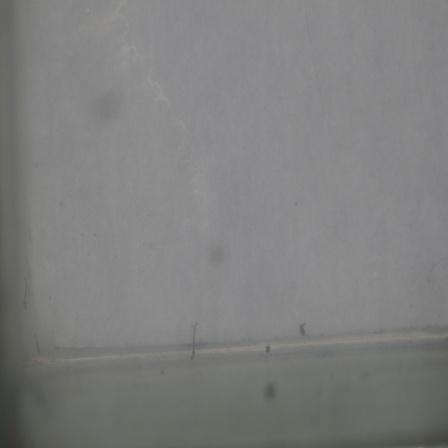Jentik-Nyamuk: (183, 322, 203, 361), (297, 318, 308, 342)
